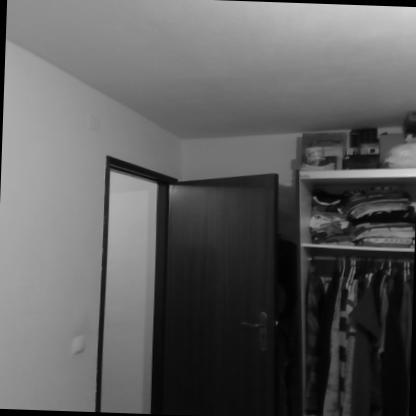open: (81, 152, 294, 416)
